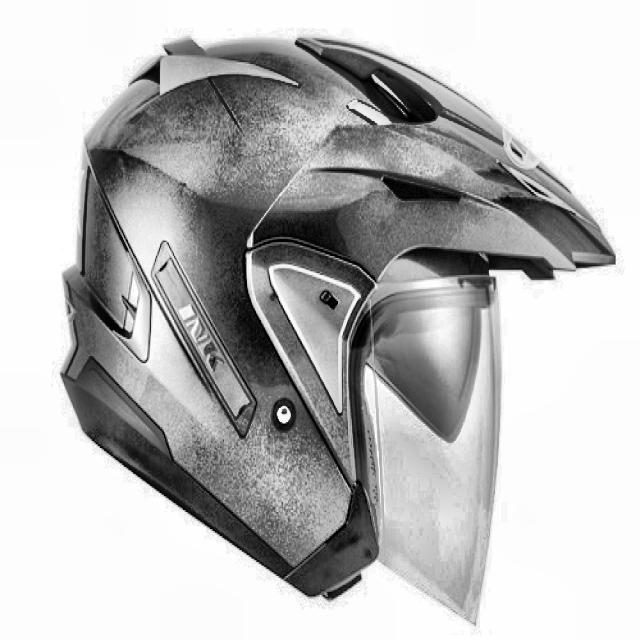Helmet: (62, 20, 612, 636)
